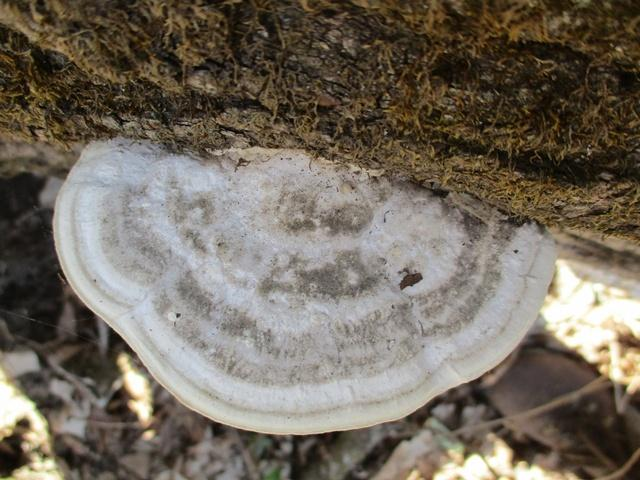poisonous_mushroom: (50, 133, 559, 437)
